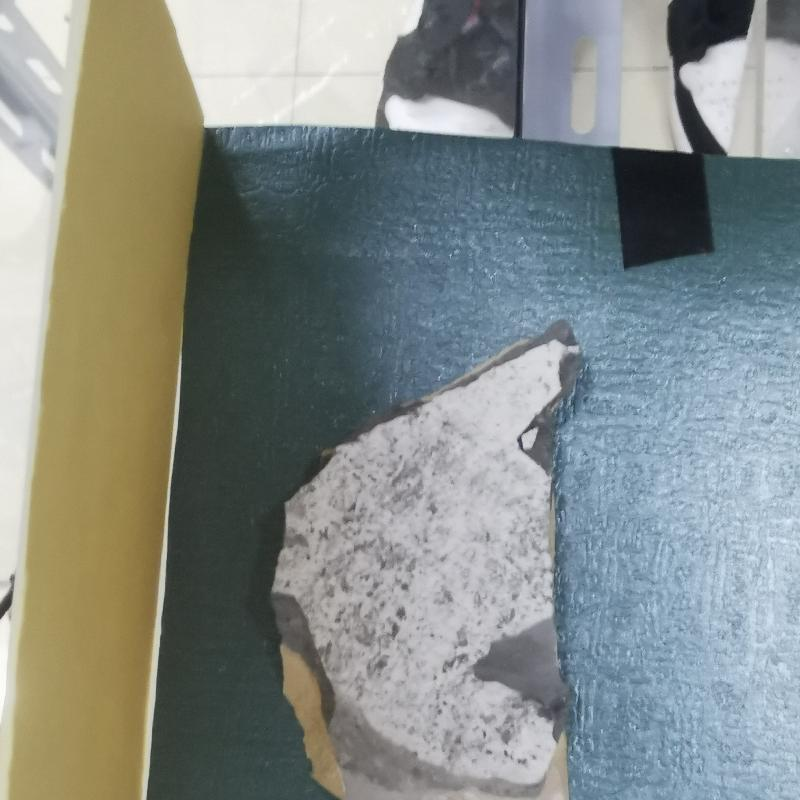tile: (265, 321, 595, 800)
